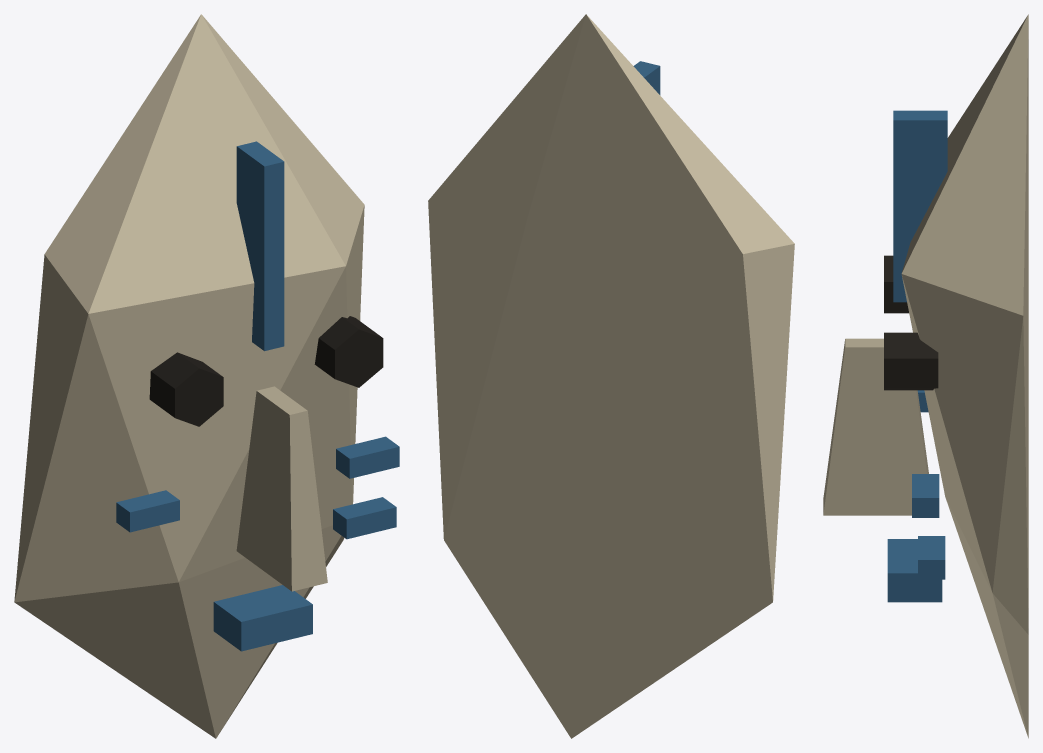
The model's file is wall-mask-21.glb.
3 views of the same model, side by side, from view 1: azimuth 30°, elevation 25°; view 2: azimuth 150°, elevation 25°; view 3: azimuth 270°, elevation 25° (orthographic).
Visible parts, largest first — view 1: wall_mask_21; view 2: wall_mask_21; view 3: wall_mask_21.
Part boxes in pixels (x1,y1,x2,y2): wall_mask_21: (14,14,399,738); wall_mask_21: (428,14,794,738); wall_mask_21: (823,14,1028,738).
Size of the model in its own units: 0.1451 by 0.2907 by 0.0753.
